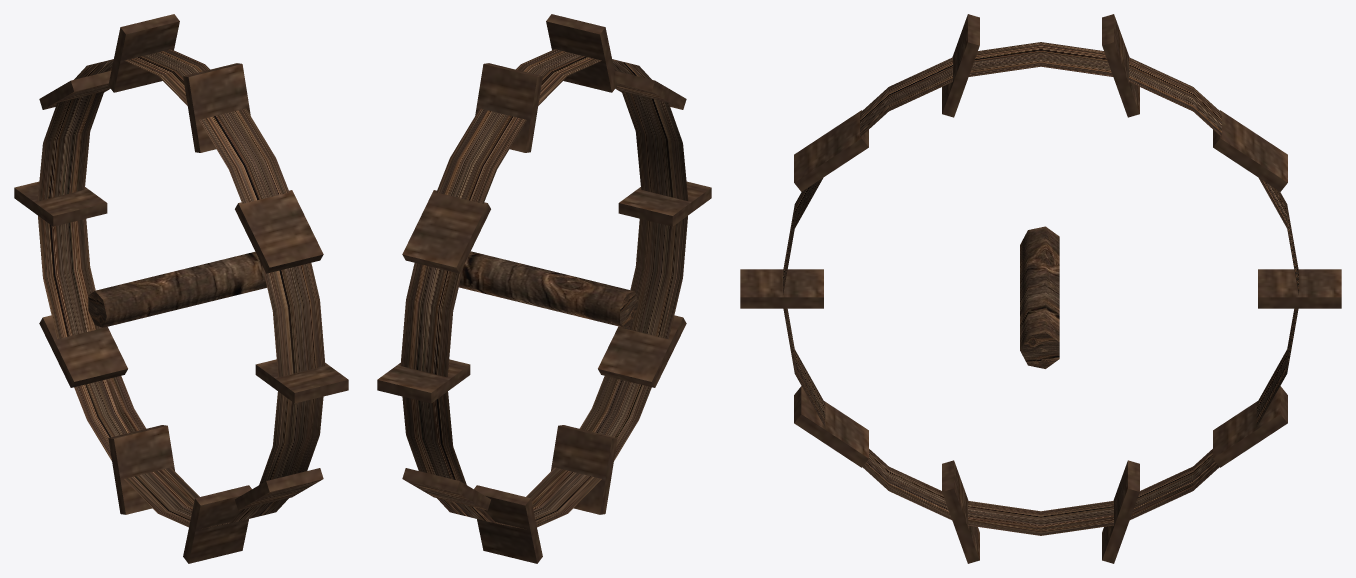
Rendered from waterwheel.glb.
3 renders of one model, left to right at view 1: azimuth 30°, elevation 25°; view 2: azimuth 150°, elevation 25°; view 3: azimuth 270°, elevation 25°, orthographic. The views are drawn at different scales.
Parts seen in each view (by area): view 1: part_0; view 2: part_0; view 3: part_0.
Boxes of the visible parts, x1=… form: part_0: x1=14, y1=14, x2=348, y2=563; part_0: x1=377, y1=14, x2=711, y2=563; part_0: x1=740, y1=14, x2=1341, y2=563.
Bounding box in the file's own units: 0.6 × 1.38 × 1.44.
Materials: 1 (1 with a texture image).
